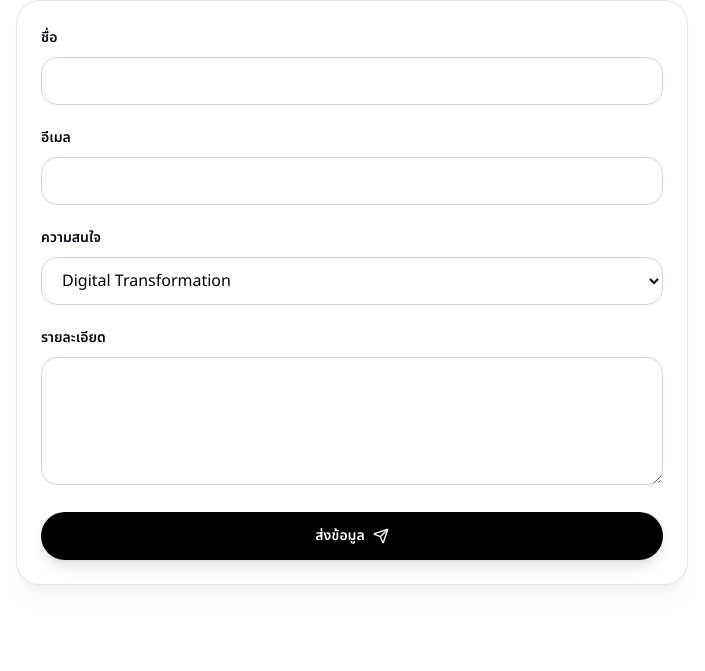
Test: ContactForm › surfaces submission errors from the API
Type "Orbit Team" into the field labelled "ชื่อ".
click(352, 81); type("Orbit Team")  # box [41,57,663,105]
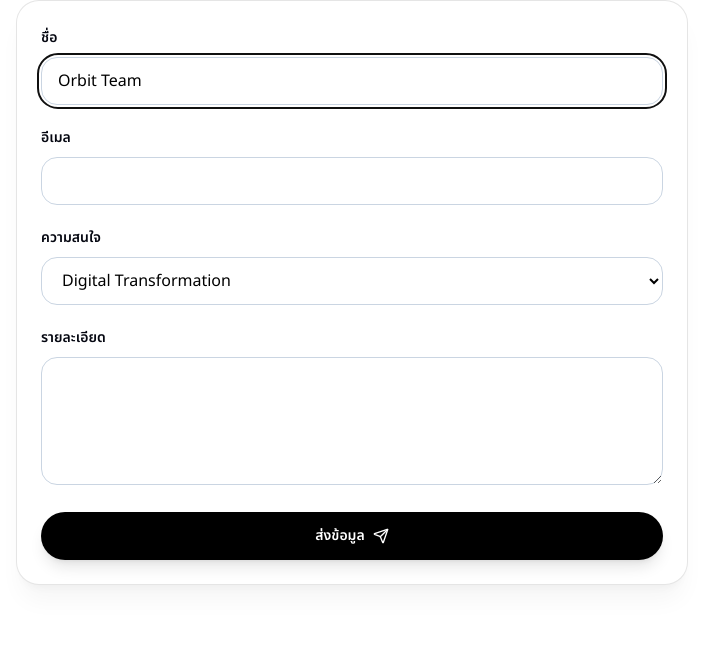
Type "team@example.com" into the field labelled "อีเมล".
click(352, 181); type("team@example.com")  # box [41,157,663,205]
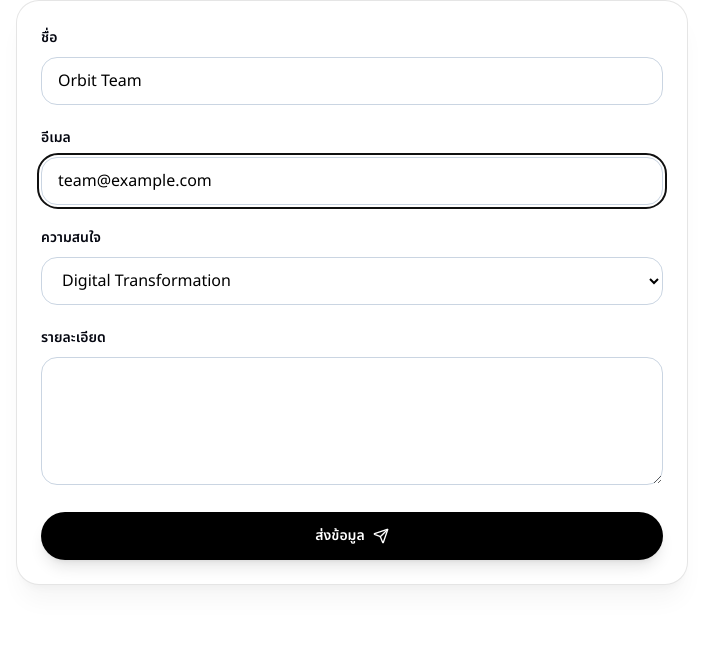
Type "We need a responsive company profile." into the text box labelled "รายละเอียด".
click(352, 421); type("We need a responsive company profile.")  # box [41,357,663,485]
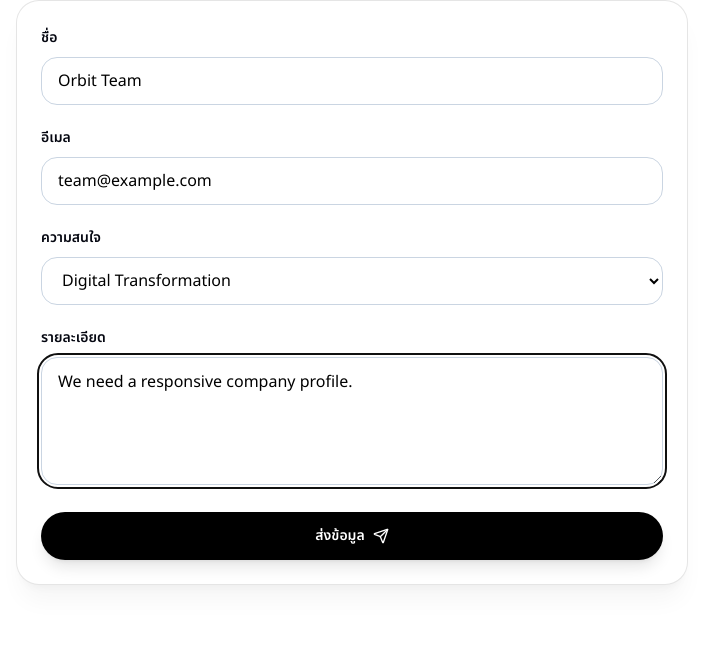
Click the button "ส่งข้อมูล".
click(352, 536)  # box [41,512,663,560]
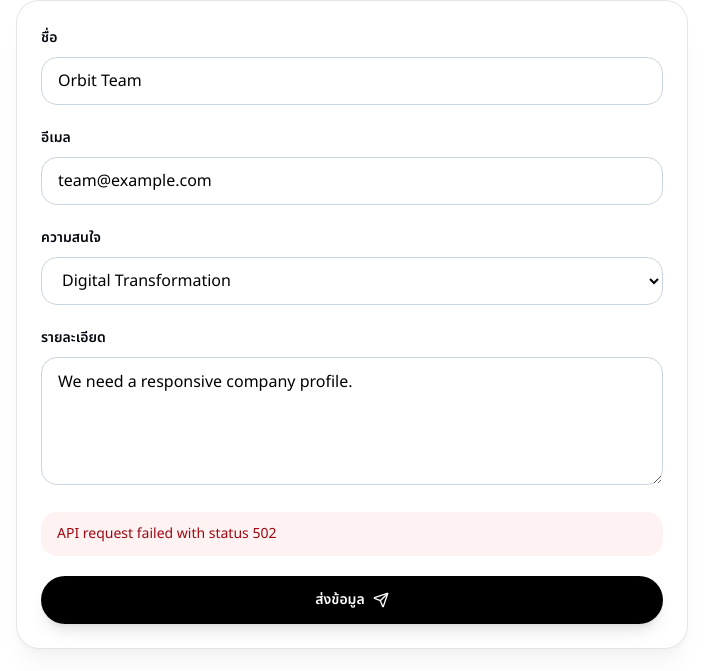
Result: the message reads "API request failed with status 502" at [57,523,276,544]
